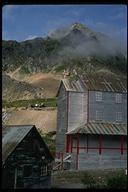house: (53, 73, 128, 172), (1, 122, 53, 190)
mountain: (5, 18, 123, 69)
sky: (5, 6, 50, 31)
